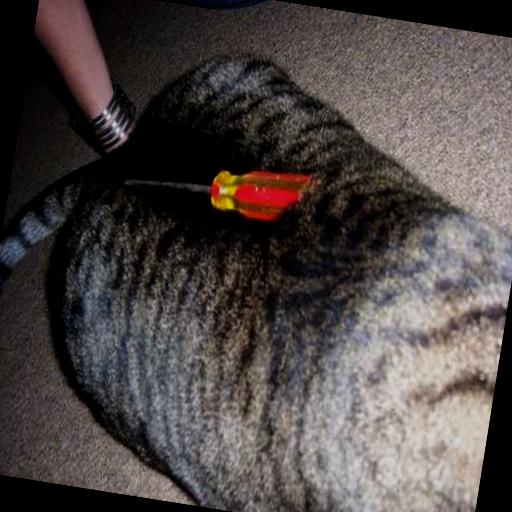screwdriver: (120, 146, 314, 224)
